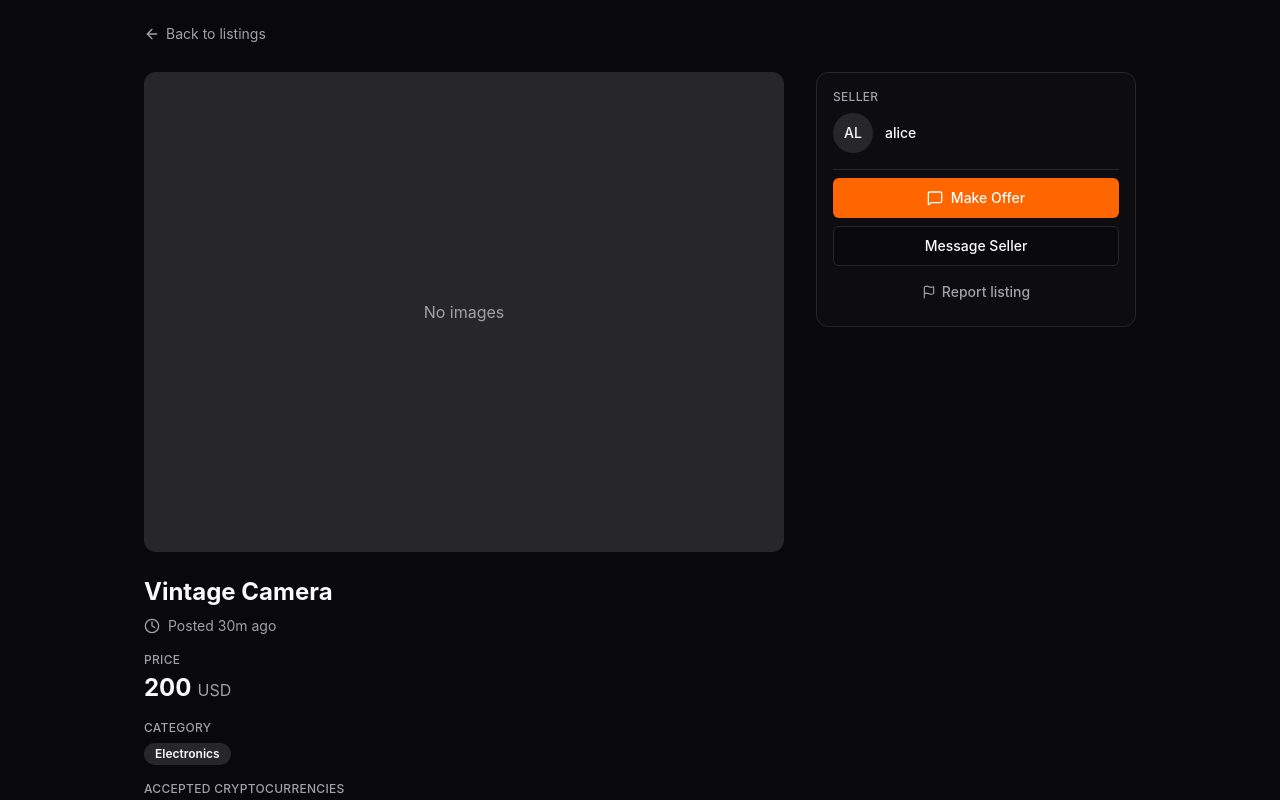
Test: ListingDetailPage — report listing › submit is enabled when reason is 5+ chars
This screenshot has width=1280, height=800.
Click the button with test id "report-button". click: coordinates (976, 292)
box: [833,274,1119,310]
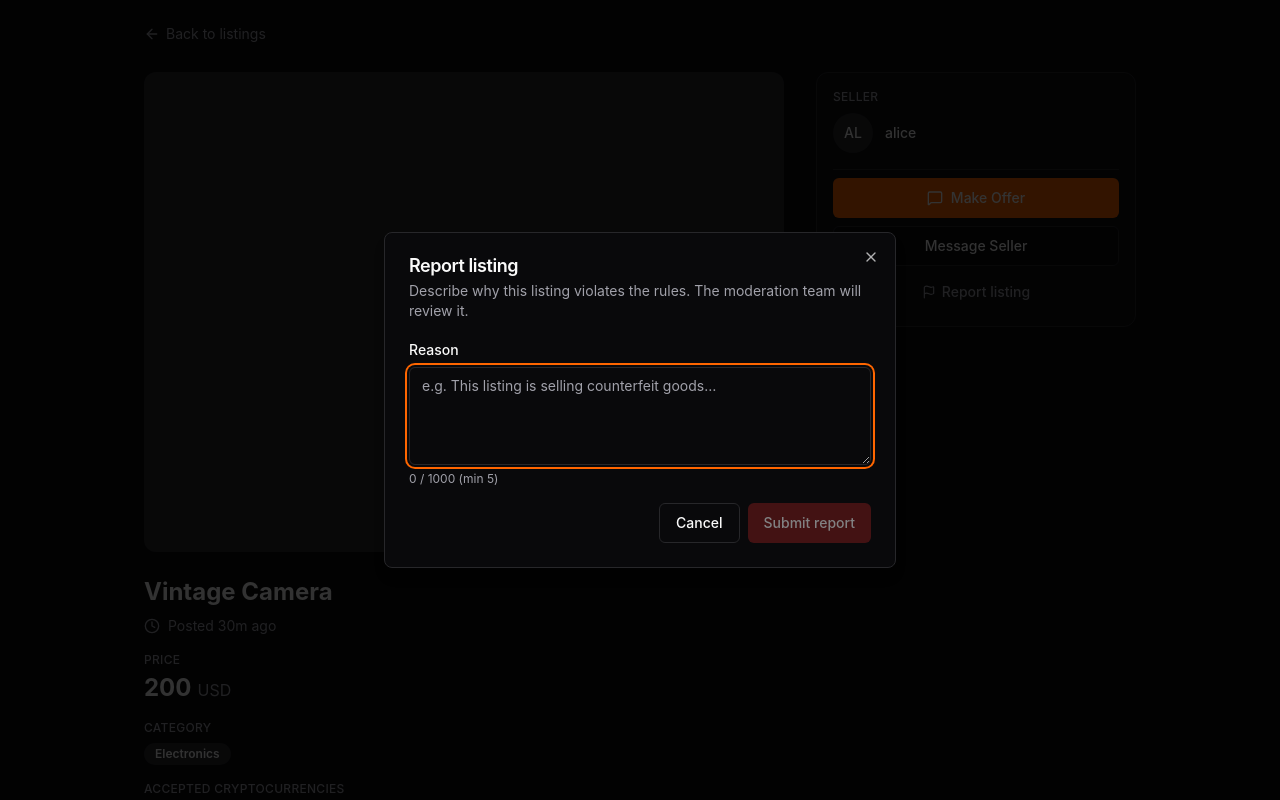
Result: the text box with test id "report-reason-input" is shown
Type "This is a scam listing" into the text box with test id "report-reason-input". click: coordinates (640, 416)
box: [409,367,871,465]
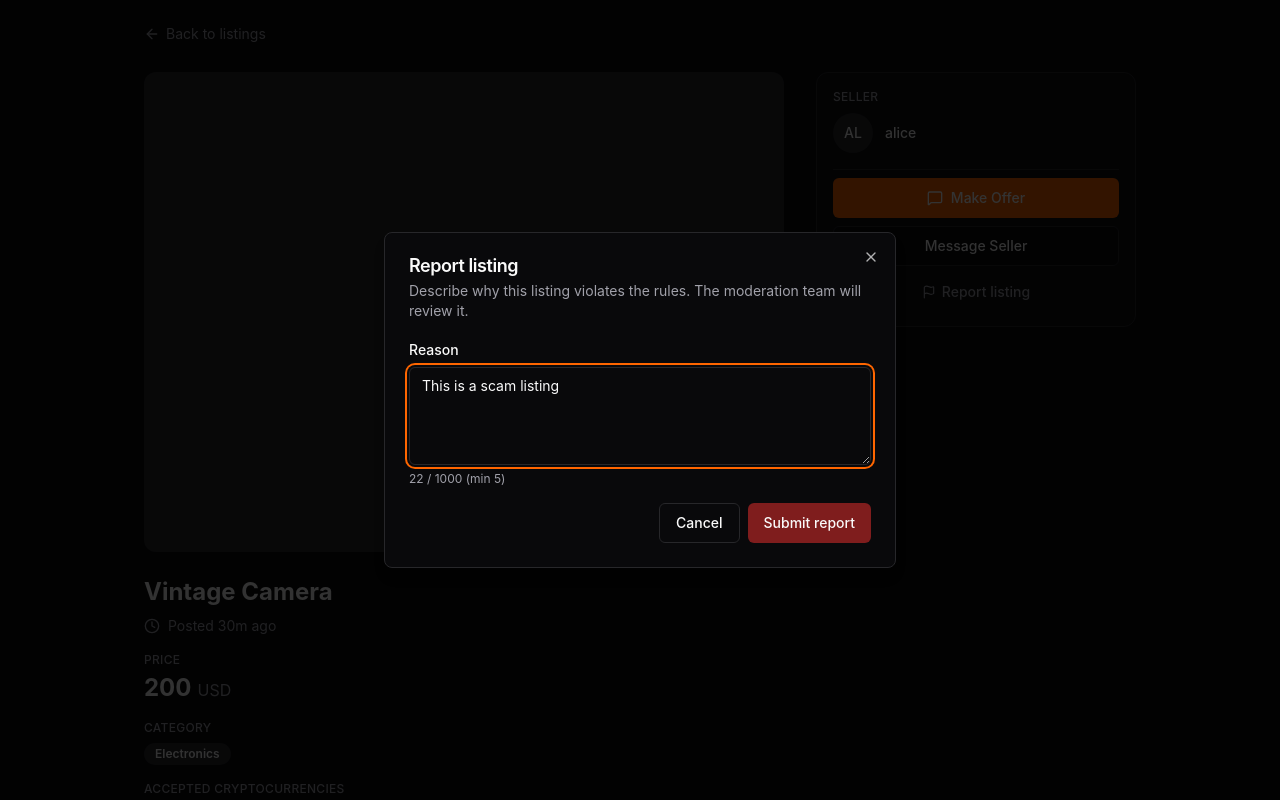
Result: the button with test id "report-submit" is enabled at [748,503,871,543]
